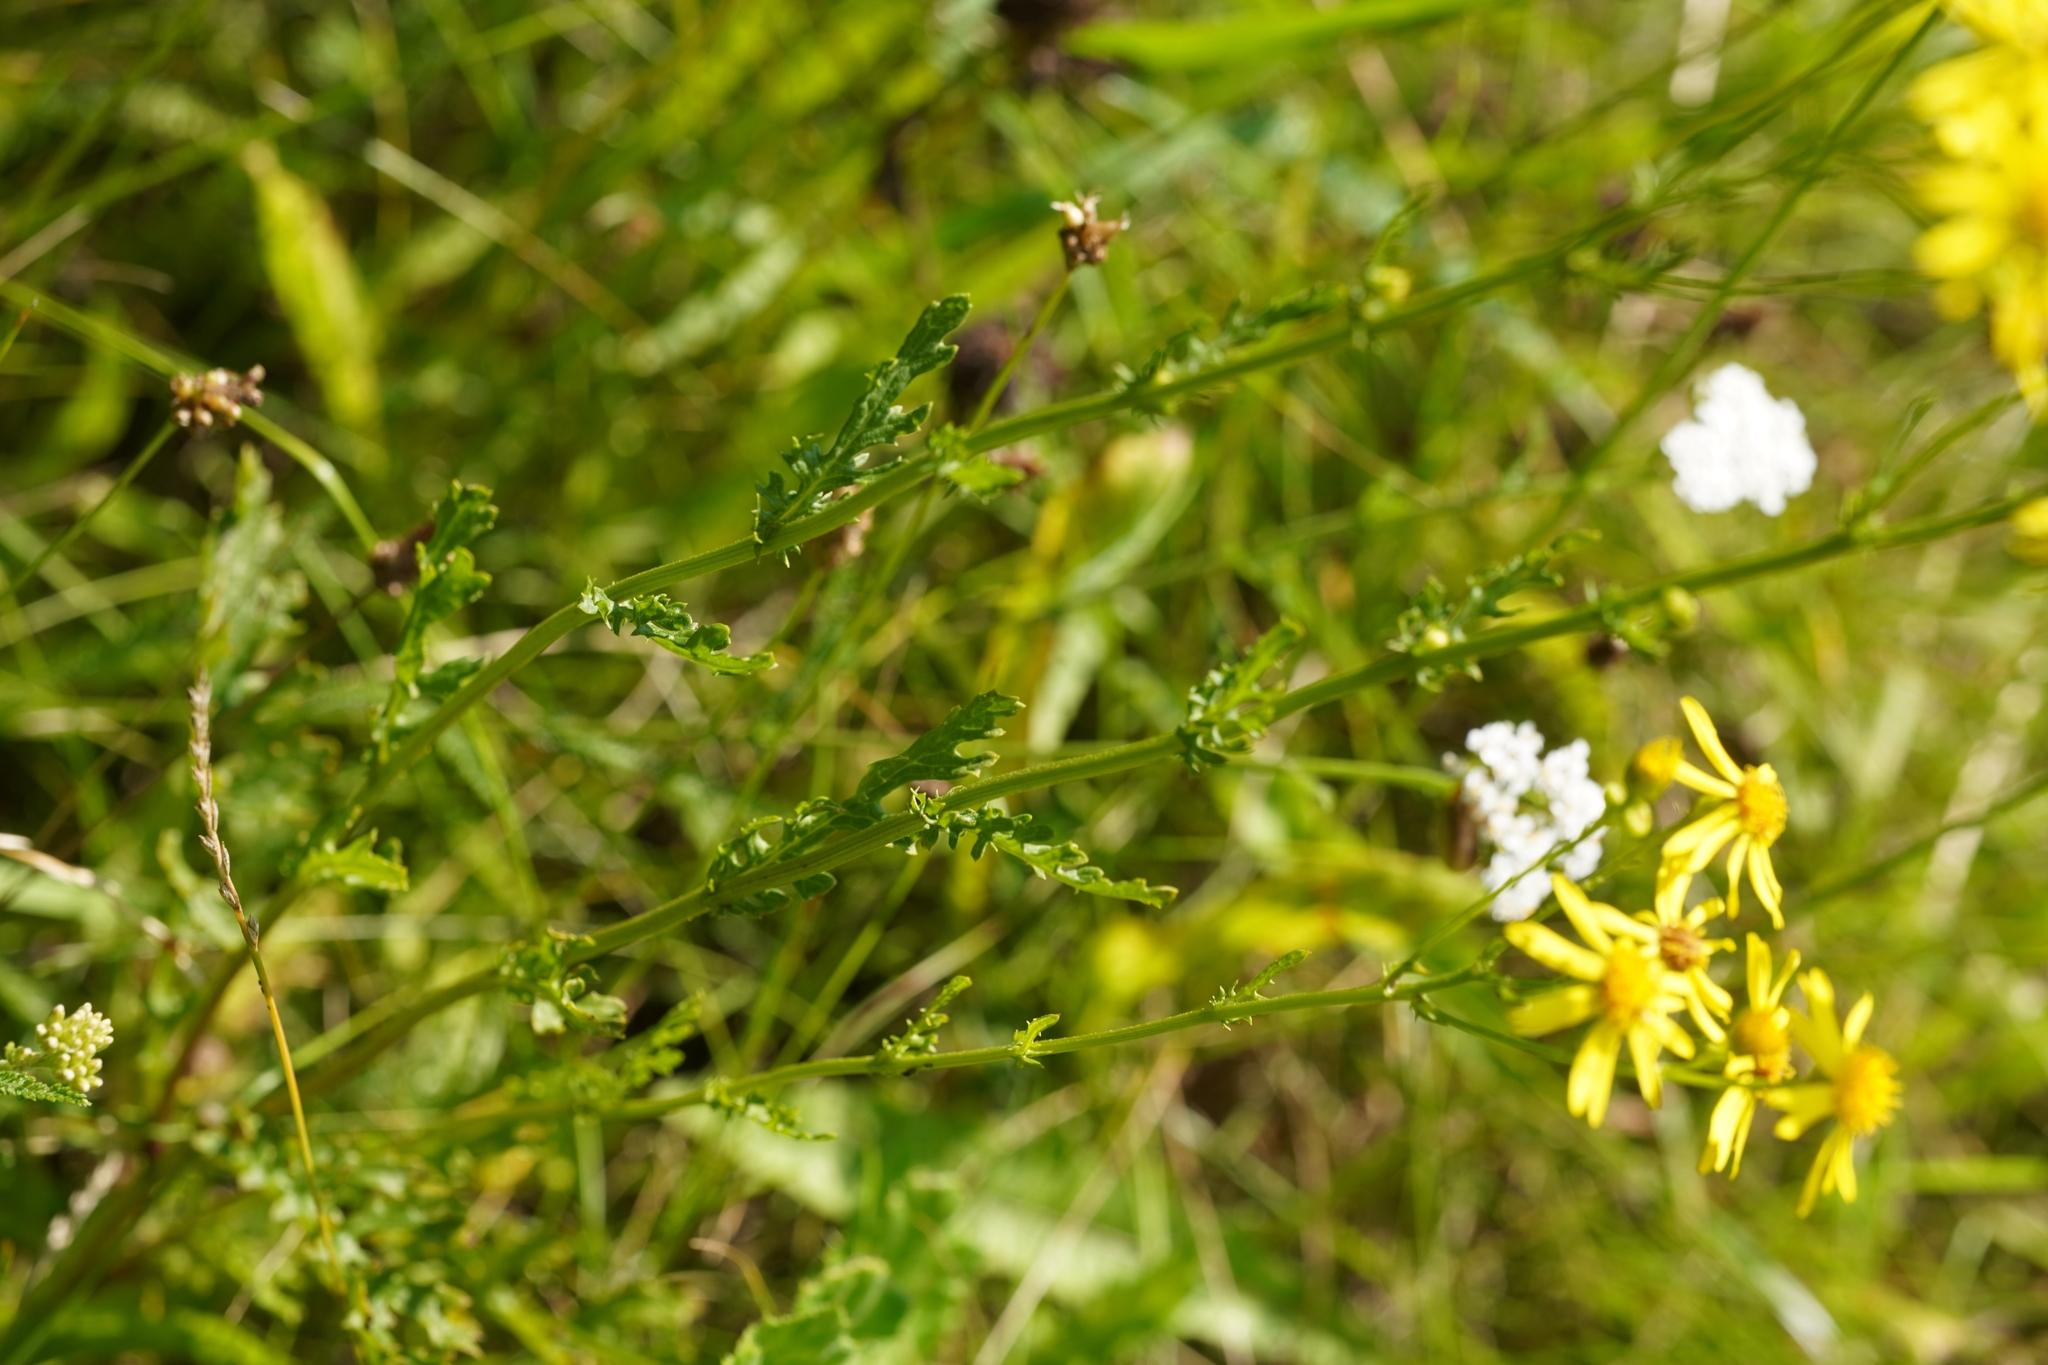Jacobaea vulgaris: (17, 225, 1963, 1213)
